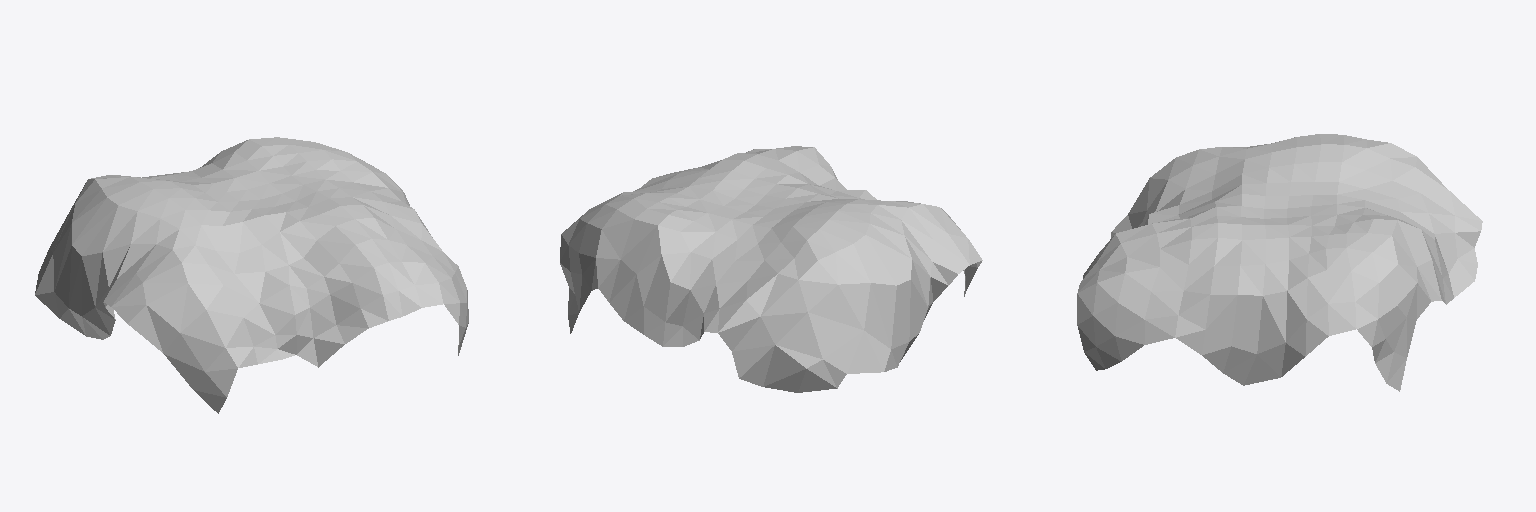
Rendered from boulder.obj.
3 renders of one model, left to right at view 1: azimuth 30°, elevation 25°; view 2: azimuth 150°, elevation 25°; view 3: azimuth 270°, elevation 25°, orthographic.
Visible parts, largest first — view 1: Grid; view 2: Grid; view 3: Grid.
Boxes of the visible parts, x1,y1,x2,y2 form: Grid: [35, 137, 468, 413]; Grid: [560, 146, 982, 392]; Grid: [1077, 134, 1482, 391].
Size of the model in its own units: 8.71 by 3.44 by 8.82.